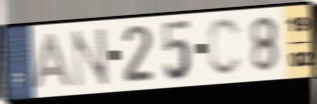2: (120, 23, 156, 86)
5: (161, 17, 197, 84)
8: (248, 14, 282, 75)
A: (31, 31, 75, 92)
C: (206, 16, 245, 79)
N: (69, 25, 112, 90)
